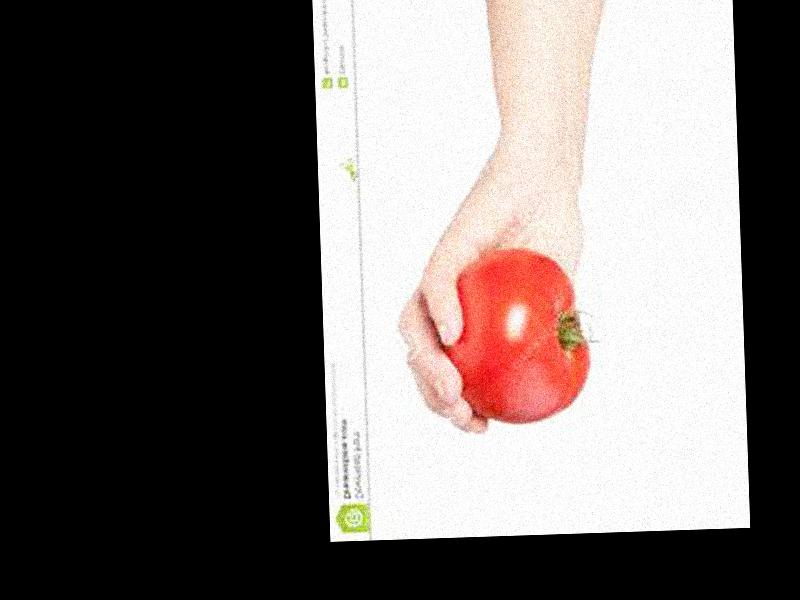Tomato: (440, 244, 593, 426)
